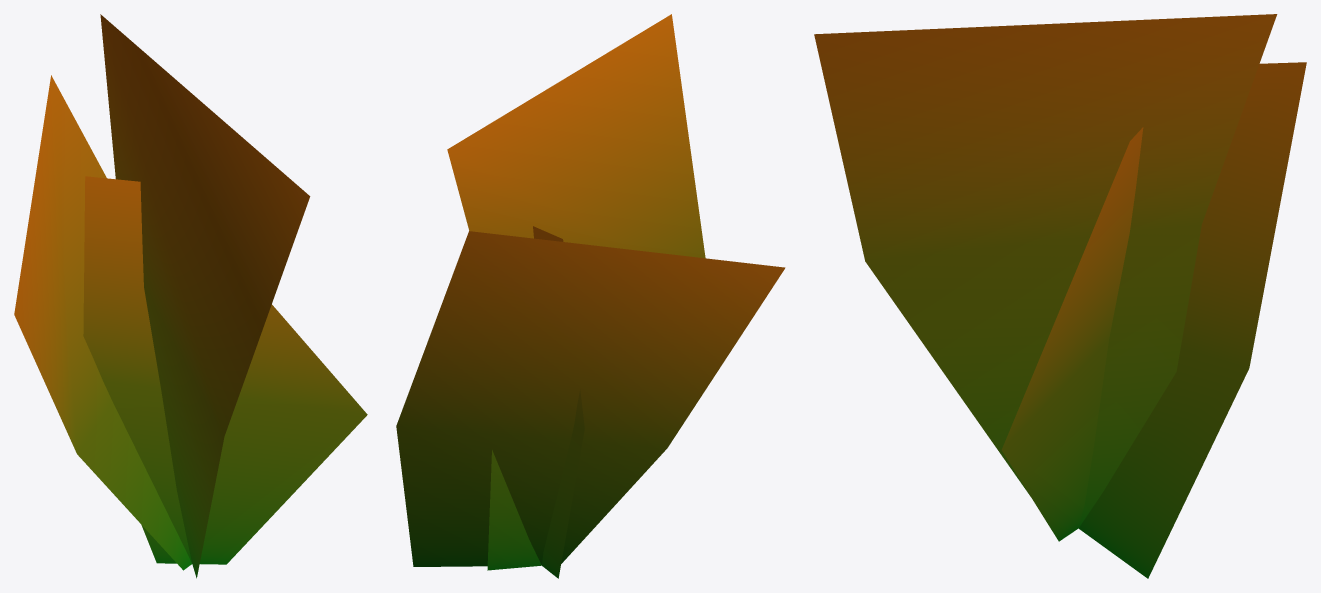
File: Var4_LOD2.fbx
3 renders of one model, left to right at view 1: azimuth 30°, elevation 25°; view 2: azimuth 150°, elevation 25°; view 3: azimuth 270°, elevation 25°, orthographic. The views are drawn at different scales.
Parts seen in each view (by area): view 1: _df20_Var4_LOD2; view 2: _df20_Var4_LOD2; view 3: _df20_Var4_LOD2.
Part boxes in pixels (x1=…): _df20_Var4_LOD2: x1=14, y1=14, x2=367, y2=578; _df20_Var4_LOD2: x1=396, y1=14, x2=785, y2=578; _df20_Var4_LOD2: x1=814, y1=14, x2=1306, y2=578.
Size of the model in its own units: 21.05 by 27.99 by 24.02.
